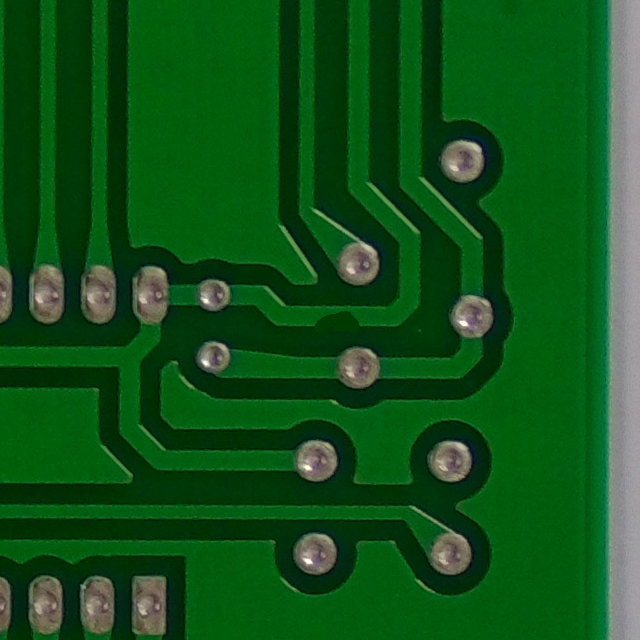mouse_bite: (297, 296, 384, 344)
